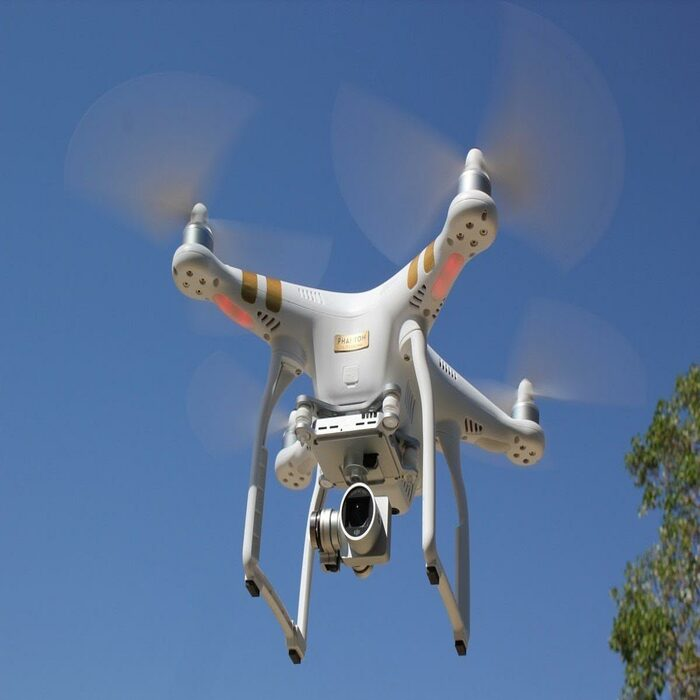d: (168, 144, 550, 667)
